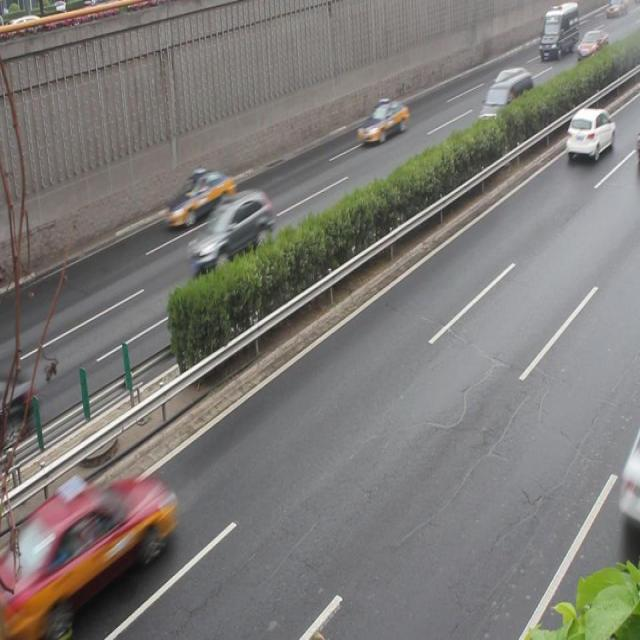car: (28, 479, 171, 611), (188, 190, 271, 270), (165, 168, 234, 231), (562, 108, 612, 162), (356, 100, 408, 147)
truck: (476, 75, 533, 130)
